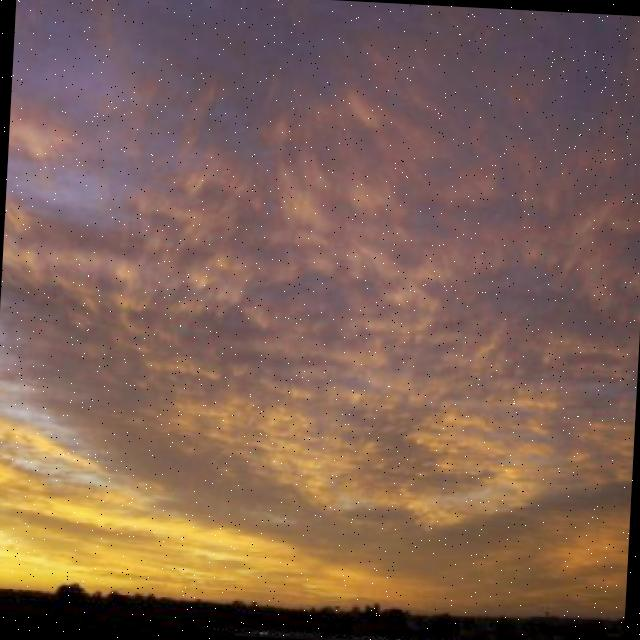As: (1, 43, 640, 526)
